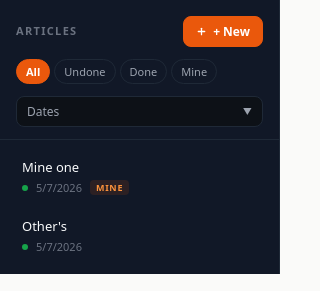
Test: Sidebar filters › 'Mine' shows only current user's articles
This screenshot has width=320, height=291.
Click the button "Mine": (194,72) [171,59,217,84]
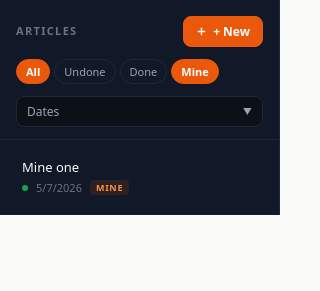
Expected: the text "Mine one" is shown, [22,158,79,176]
Expected: the button "Other's" is gone
